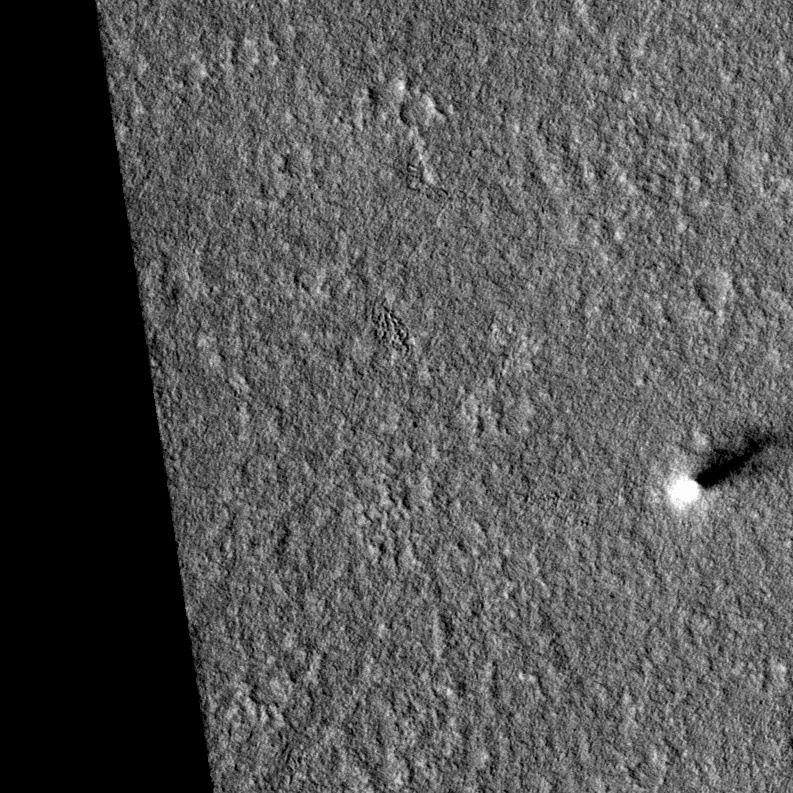dust_devil: (663, 416, 791, 516)
